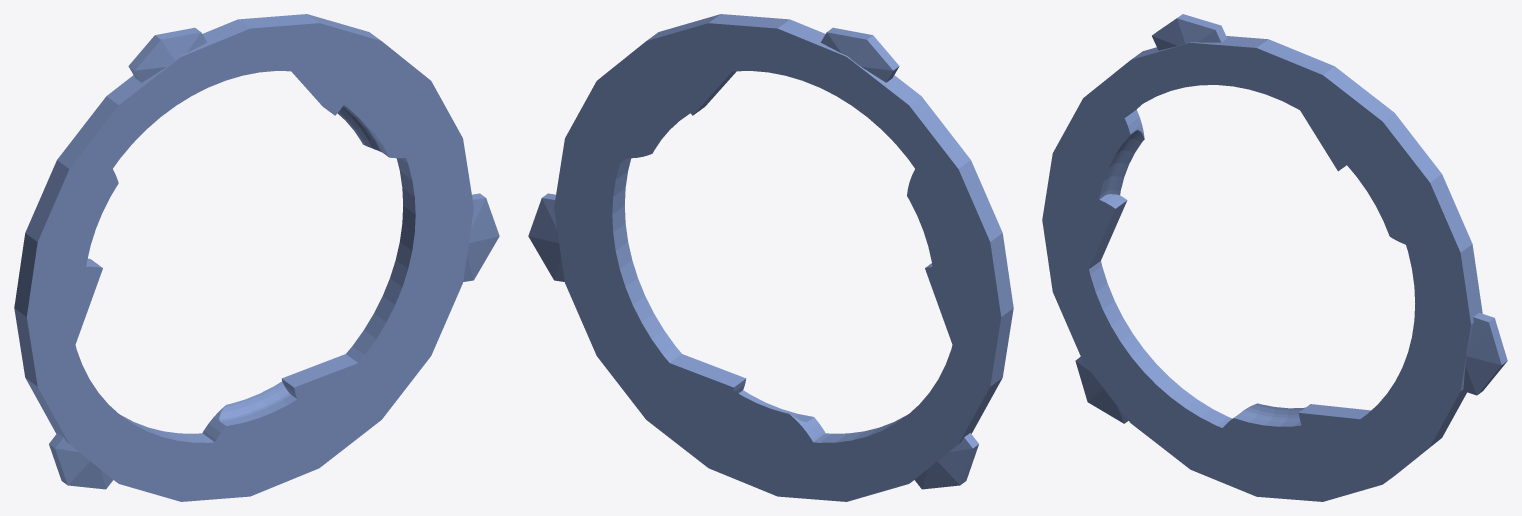
The model's file is FA Ratchet.glb.
3 renders of one model, left to right at view 1: azimuth 30°, elevation 25°; view 2: azimuth 150°, elevation 25°; view 3: azimuth 330°, elevation 25°, orthographic. The views are drawn at different scales.
Parts seen in each view (by area): view 1: Ratchet; view 2: Ratchet; view 3: Ratchet.
Part boxes in pixels (x1,y1,x2,y2): Ratchet: (14,14,499,501); Ratchet: (528,14,1013,501); Ratchet: (1042,14,1507,501).
Bounding box in the file's own units: 0.66 × 0.63 × 0.03.
